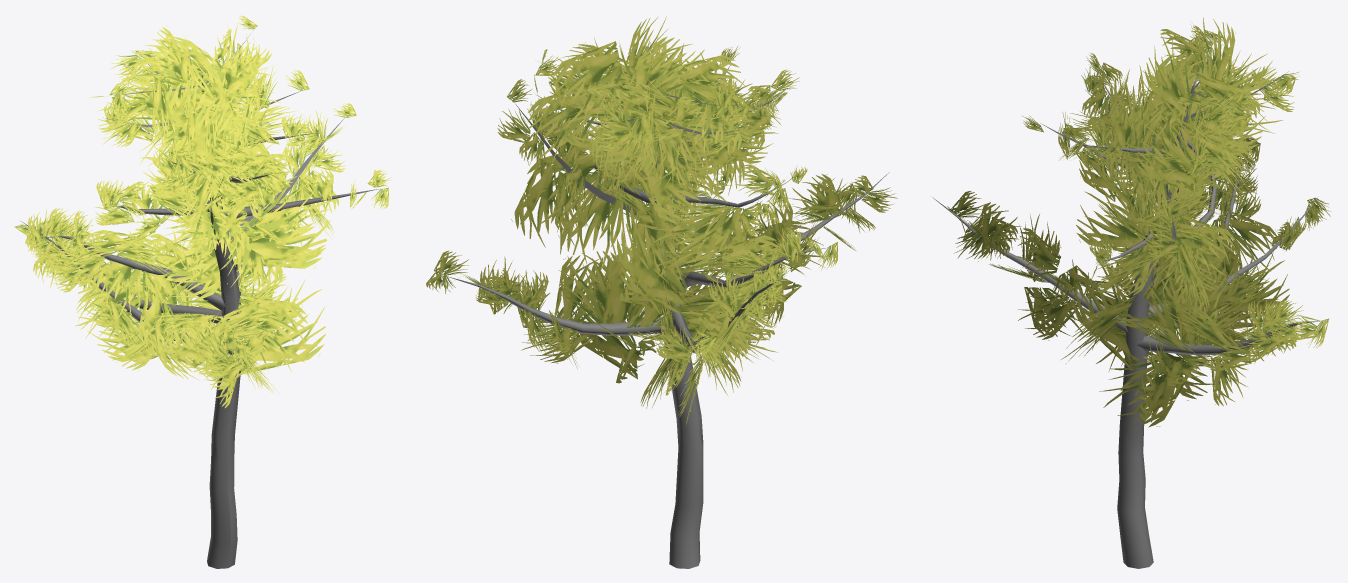
File: SM_Tree.FBX
The picture shows the model from 3 angles, left to right: view 1: azimuth 30°, elevation 25°; view 2: azimuth 150°, elevation 25°; view 3: azimuth 270°, elevation 25°; orthographic projection. The views are drawn at different scales.
Visible parts, largest first — view 1: OptimizedTree; view 2: OptimizedTree; view 3: OptimizedTree.
Part boxes in pixels (x1=…): OptimizedTree: x1=14, y1=15, x2=391, y2=568; OptimizedTree: x1=426, y1=16, x2=897, y2=568; OptimizedTree: x1=932, y1=17, x2=1331, y2=568.
Bounding box in the file's own units: 1243 × 1946 × 1332.
